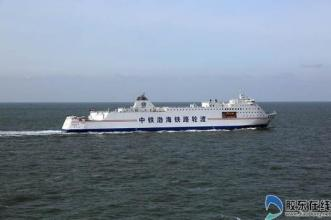youlun: (56, 88, 276, 134)
